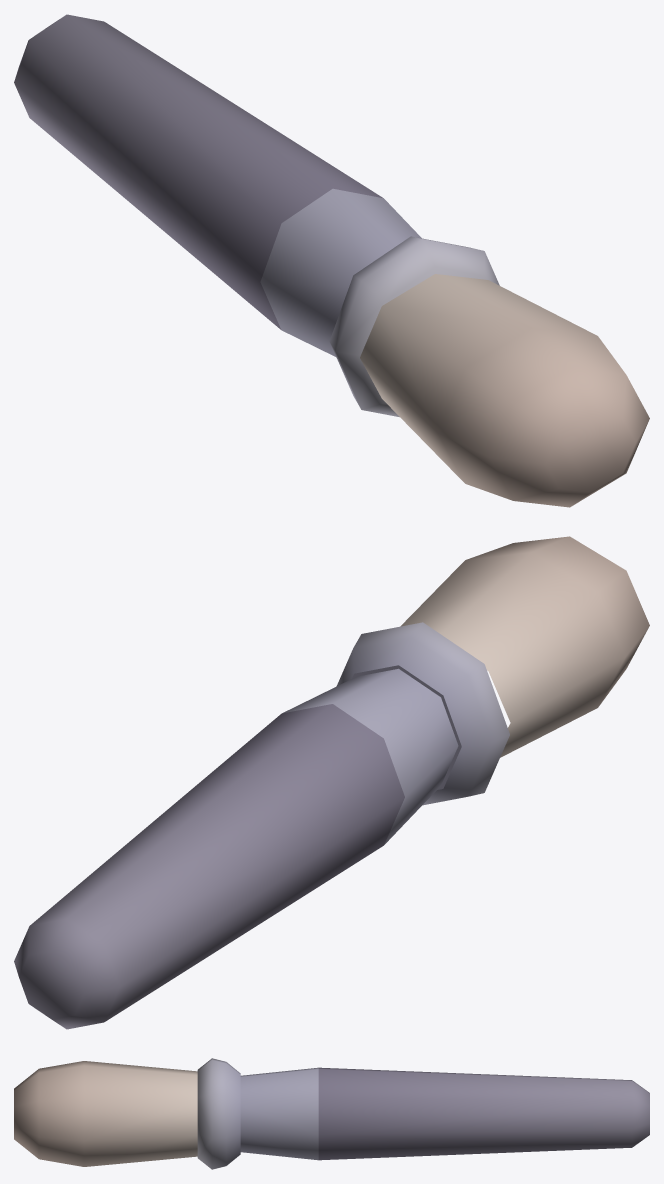
The model's file is makeup-brush-b.glb.
3 views of the same model, one above another, from view 1: azimuth 30°, elevation 25°; view 2: azimuth 150°, elevation 25°; view 3: azimuth 270°, elevation 25° (orthographic). The views are drawn at different scales.
Visible parts, largest first — view 1: makeup-brush-b; view 2: makeup-brush-b; view 3: makeup-brush-b.
Boxes of the visible parts, bbox=[...] form: makeup-brush-b: bbox=[14, 14, 649, 507]; makeup-brush-b: bbox=[14, 536, 649, 1029]; makeup-brush-b: bbox=[14, 1058, 649, 1169].
Bounding box in the file's own units: 0.0682 × 0.0632 × 0.339.
